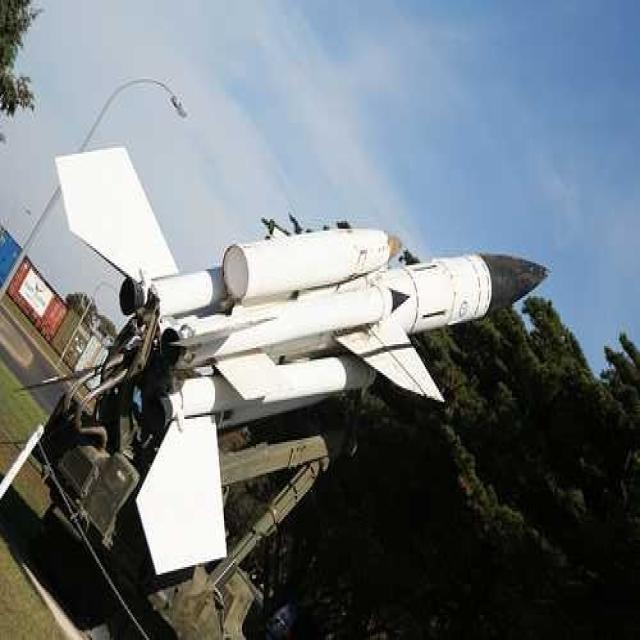missile: (53, 145, 591, 573)
